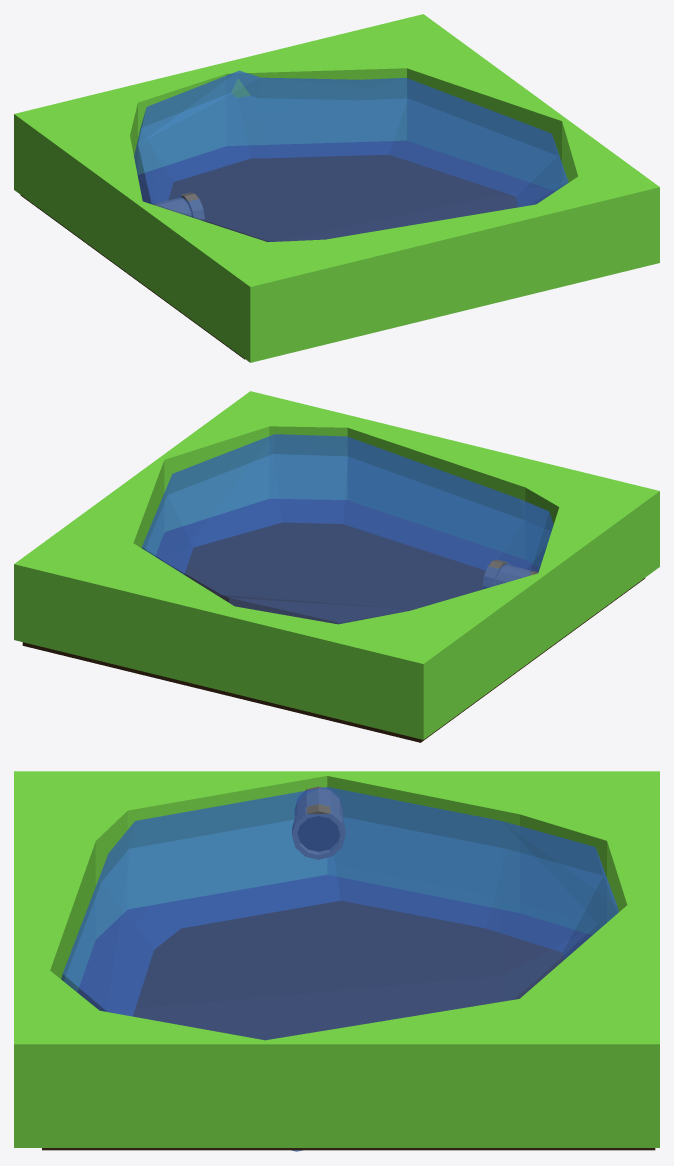
Rendered from lake.fbx.
The picture shows the model from 3 angles, top to bottom: view 1: azimuth 30°, elevation 25°; view 2: azimuth 150°, elevation 25°; view 3: azimuth 270°, elevation 25°; orthographic projection. The views are drawn at different scales.
Parts seen in each view (by area): view 1: Plane, Plane.001, Cube, Cylinder.001; view 2: Plane, Plane.001, Cube, Cylinder.001; view 3: Plane, Plane.001, Cube, Cylinder.001.
Boxes of the visible parts, <box> form: Plane: <box>14,14,659,362</box>; Plane.001: <box>134,70,568,241</box>; Cube: <box>20,141,554,359</box>; Cylinder.001: <box>152,192,204,220</box>; Plane: <box>14,391,659,739</box>; Plane.001: <box>141,434,553,624</box>; Cube: <box>22,499,645,742</box>; Cylinder.001: <box>482,559,538,589</box>; Plane: <box>14,771,659,1147</box>; Plane.001: <box>61,787,618,1151</box>; Cube: <box>42,875,655,1150</box>; Cylinder.001: <box>292,786,345,859</box>.
Size of the model in its own units: 951 by 242 by 951.
